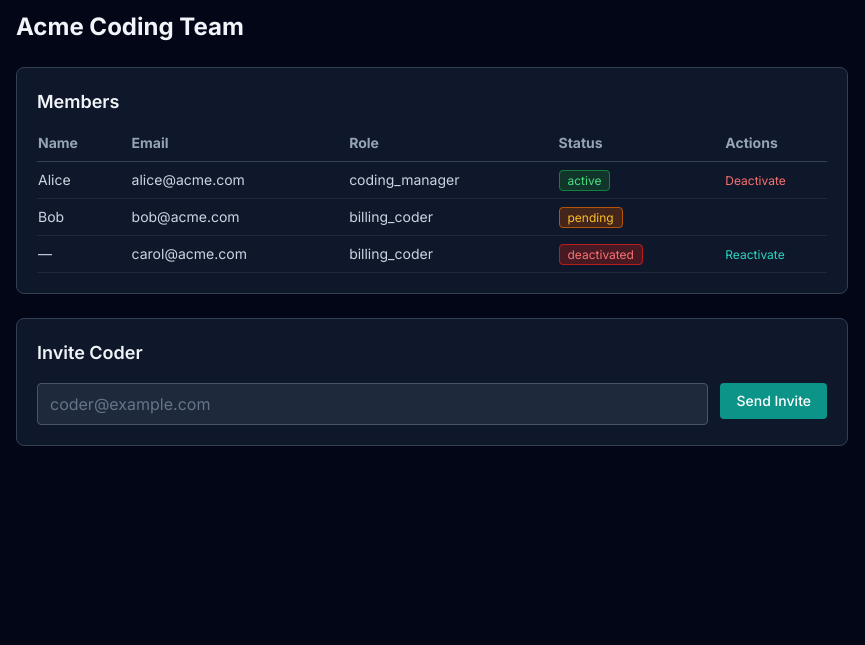
Scenario: CoderTeamManagement › invite form renders and submits
This screenshot has width=865, height=645.
Expected: the heading "Invite Coder" is shown, [37,342,143,363]
Expected: the button "Send Invite" is shown, [720,383,827,419]
Note: Fill and submit
Type "new@acme.com" into the field with placeholder "coder@example.com" at (373, 404), box [37,383,708,425]
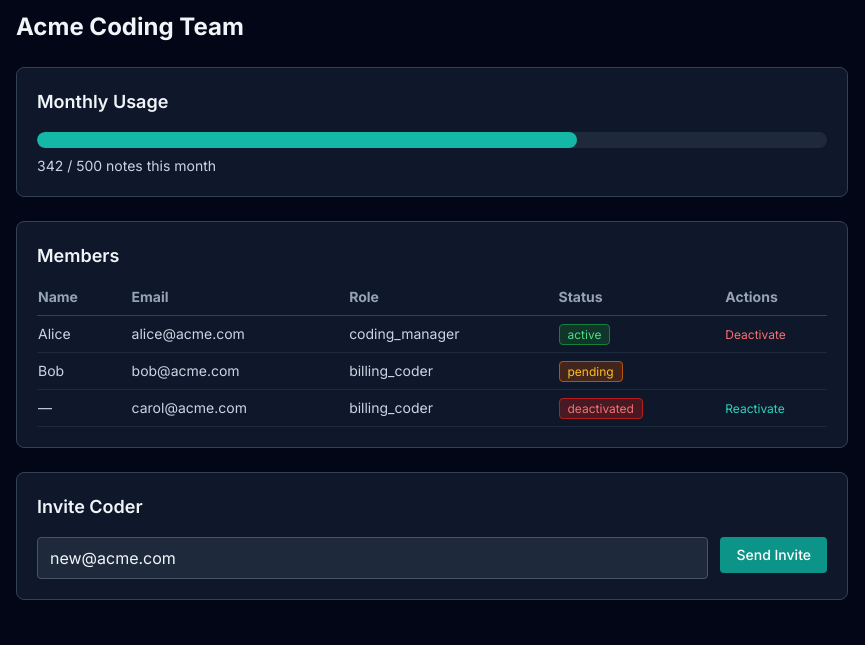
Click the button "Send Invite" at (774, 555), box [720,537,827,573]
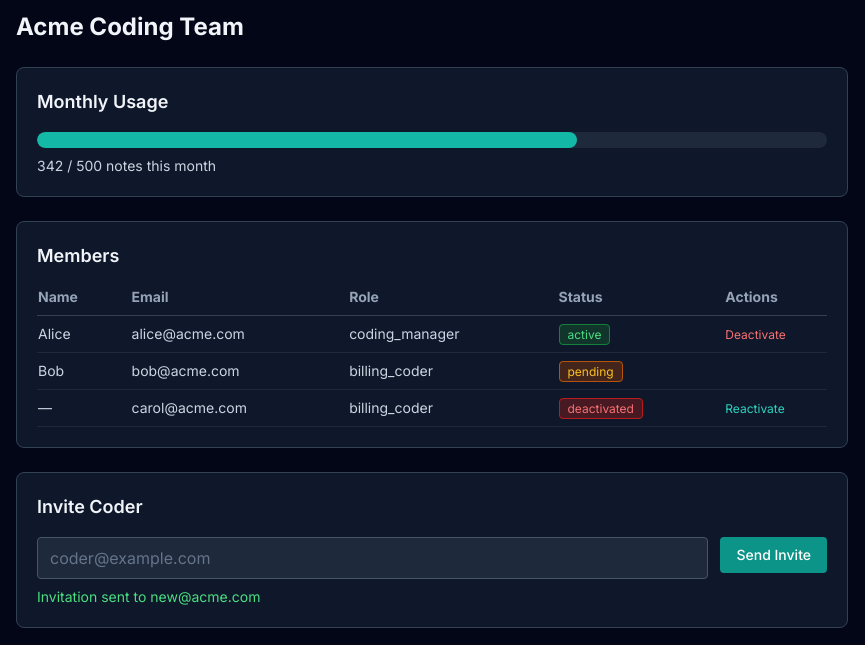
Now the text "Invitation sent to new@acme.com" is shown, box [37,588,260,605]
